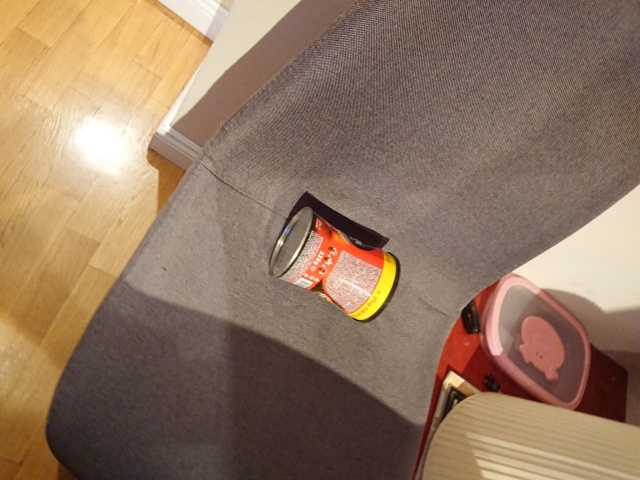Nescafe Classic 225g: (264, 202, 405, 328)
